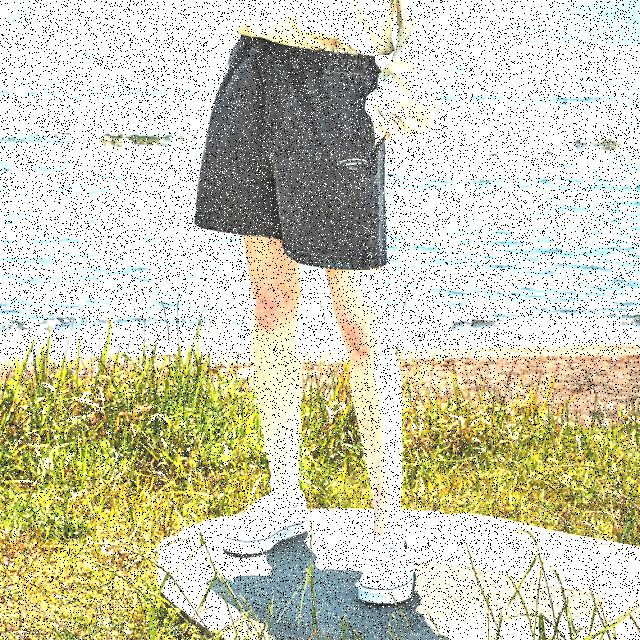Blouse_deep: (200, 26, 405, 277)
